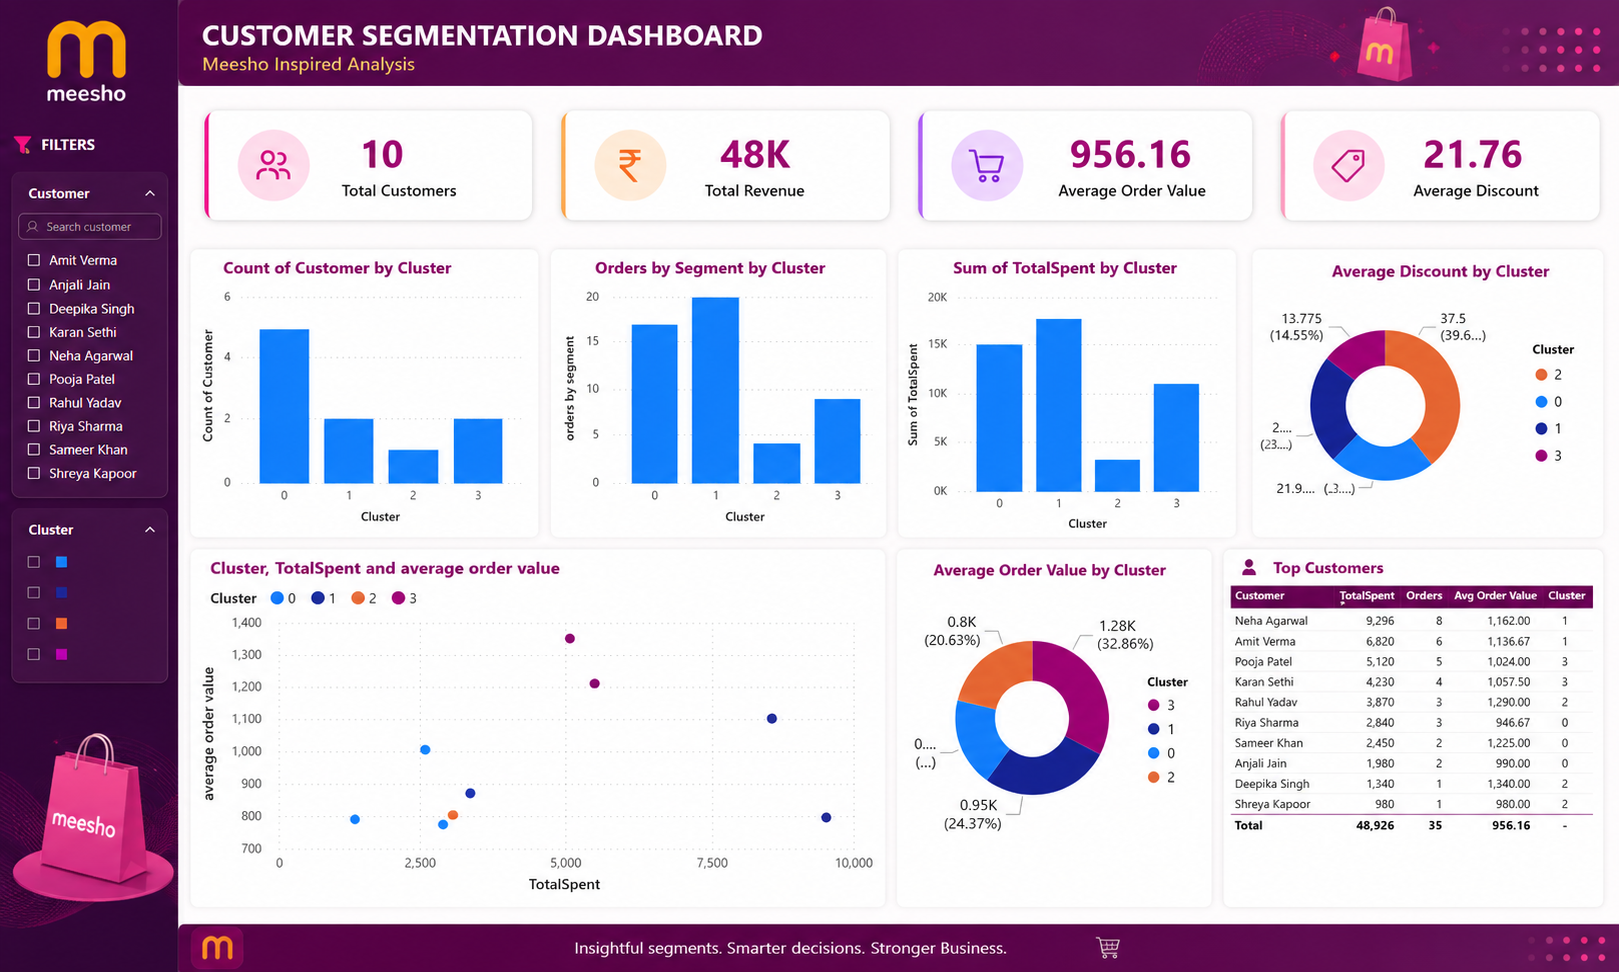

The page's visual inventory and layout, read from the dashboard file:
{"tool":"powerbi","page":{"name":"Page 1","canvas":[1280,720],"ordinal":0},"visuals":[{"type":"cardVisual","fields":{"Data":["CustomerSegmented.Total Customers"]},"box":[538.1,0,187.6,179.4],"z":0},{"type":"cardVisual","fields":{"Data":["CustomerSegmented.Total Revenue"]},"box":[725.8,0,187.6,179.4],"z":1},{"type":"cardVisual","fields":{"Data":["CustomerSegmented.Average Order Value"]},"box":[899,0,187.6,179.4],"z":2},{"type":"cardVisual","fields":{"Data":["CustomerSegmented.Average Discount"]},"box":[1086.6,0,187.6,179.4],"z":3},{"type":"clusteredColumnChart","fields":{"Category":["CustomerSegmented.Cluster"],"Y":["CountNonNull(CustomerSegmented.Customer)"]},"box":[0,0,276.3,330.9],"z":4},{"type":"clusteredColumnChart","fields":{"Y":["Sum(CustomerSegmented.TotalSpent)"],"Category":["CustomerSegmented.Cluster"]},"box":[7.2,359.8,291.8,325.8],"z":5},{"type":"clusteredColumnChart","fields":{"Category":["CustomerSegmented.Cluster"],"Y":["Sum(CustomerSegmented.TotalOrders)"]},"box":[276.3,0,261.9,244.3],"z":6},{"type":"scatterChart","fields":{"Y":["CustomerSegmented.AverageOrderValue"],"X":["CustomerSegmented.TotalSpent"],"Series":["CustomerSegmented.Cluster"]},"box":[312.4,244.3,477.3,413.4],"z":7},{"type":"donutChart","fields":{"Category":["CustomerSegmented.Cluster"],"Y":["CustomerSegmented.Average Discount"]},"box":[801,179.4,261.9,243.3],"z":8},{"type":"donutChart","fields":{"Category":["CustomerSegmented.Cluster"],"Y":["CustomerSegmented.Average Order Value"]},"box":[808.2,440.2,261.9,244.3],"z":9},{"type":"listSlicer","fields":{"Values":["CustomerSegmented.Customer"]},"box":[1086.6,200,186.6,362.9],"z":10}]}

Visuals, with their boxes on the page's 1280x720 design canvas (x1, y1, x2, y2). These are canvas units, not pixel positions in the 1619x972 screenshot, which may show the page scaled, cropped or inside an application window:
cardVisual - CustomerSegmented.Total Customers: 538/0/726/179
cardVisual - CustomerSegmented.Total Revenue: 726/0/913/179
cardVisual - CustomerSegmented.Average Order Value: 899/0/1087/179
cardVisual - CustomerSegmented.Average Discount: 1087/0/1274/179
clusteredColumnChart - CustomerSegmented.Cluster x CountNonNull(CustomerSegmented.Customer): 0/0/276/331
clusteredColumnChart - Sum(CustomerSegmented.TotalSpent) x CustomerSegmented.Cluster: 7/360/299/686
clusteredColumnChart - CustomerSegmented.Cluster x Sum(CustomerSegmented.TotalOrders): 276/0/538/244
scatterChart - CustomerSegmented.AverageOrderValue x CustomerSegmented.TotalSpent: 312/244/790/658
donutChart - CustomerSegmented.Cluster x CustomerSegmented.Average Discount: 801/179/1063/423
donutChart - CustomerSegmented.Cluster x CustomerSegmented.Average Order Value: 808/440/1070/684
listSlicer - CustomerSegmented.Customer: 1087/200/1273/563
